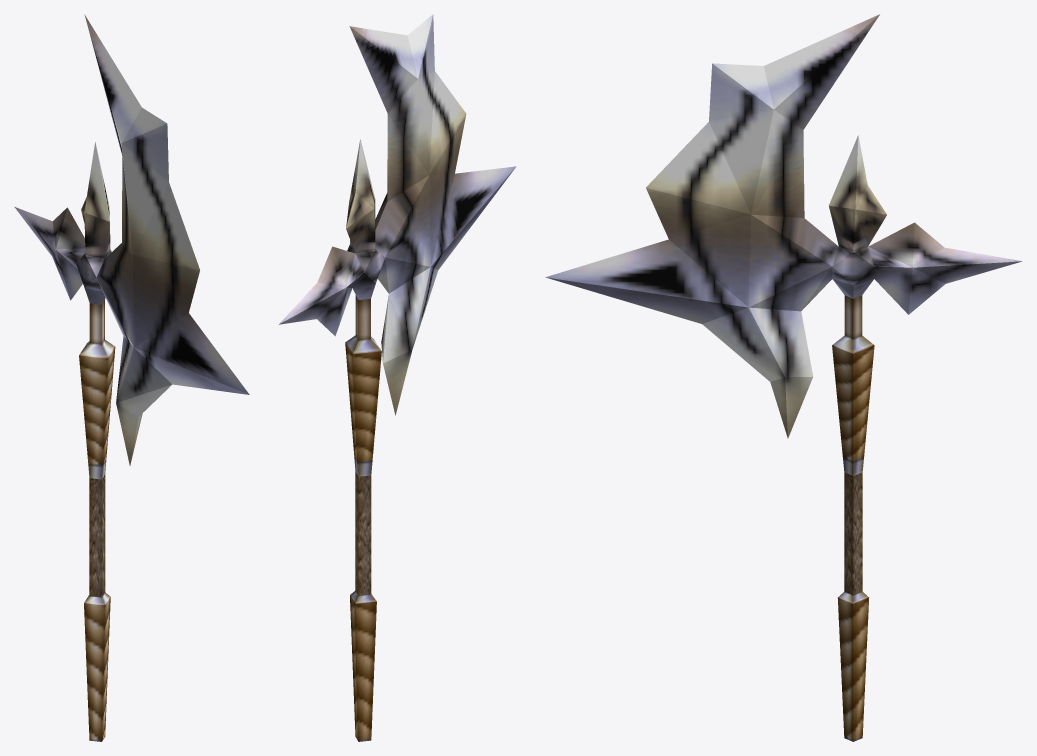
The model's file is heavyaxeman03.obj.
3 renders of one model, left to right at view 1: azimuth 30°, elevation 25°; view 2: azimuth 150°, elevation 25°; view 3: azimuth 270°, elevation 25°, orthographic.
Visible parts, largest first — view 1: heavyaxeman03; view 2: heavyaxeman03; view 3: heavyaxeman03.
Part boxes in pixels (bbox=[...]): heavyaxeman03: bbox=[14, 14, 249, 741]; heavyaxeman03: bbox=[279, 14, 516, 741]; heavyaxeman03: bbox=[545, 14, 1021, 741].
Bounding box in the file's own units: 0.1475 × 2.77 × 1.65.
